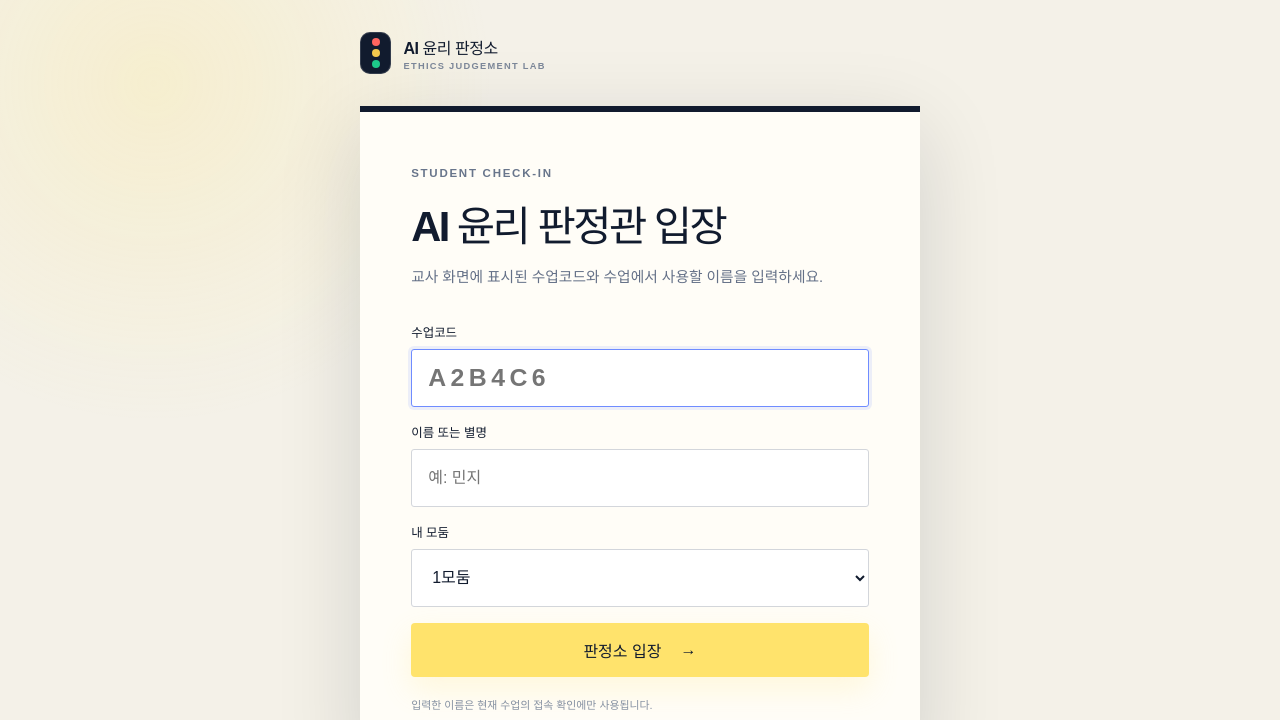
Scenario: application routes › validates a short classroom code on the student join route
In the field labelled "수업코드": (640, 378) [411,349,869,407], type "123"
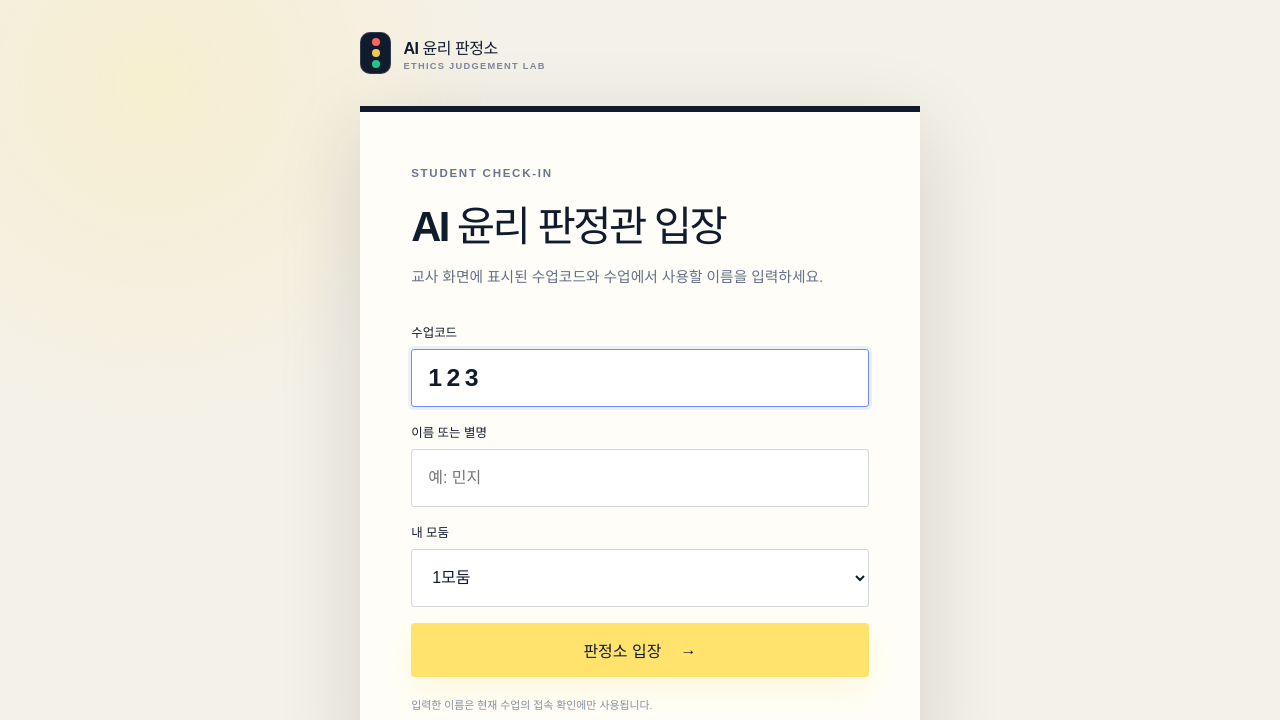
In the field labelled "이름 또는 별명": (640, 478) [411,449,869,507], type "민지"
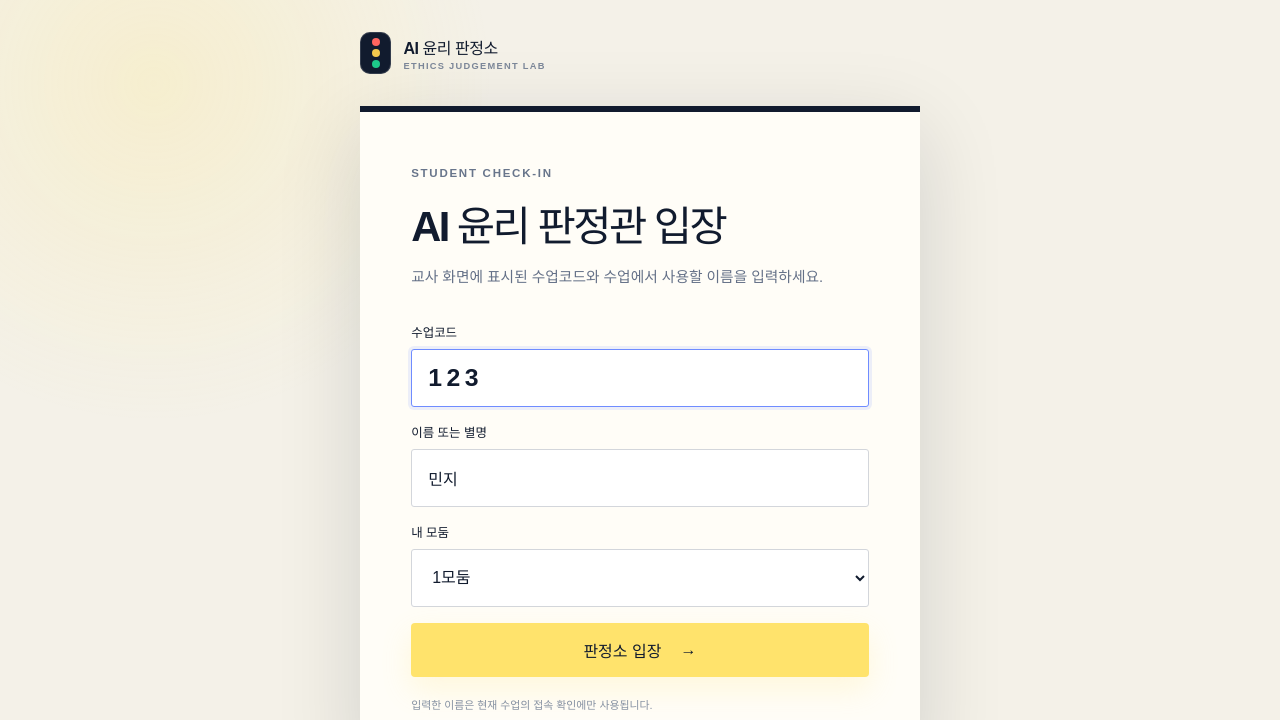
Click the button "판정소 입장 →": click(640, 650) [411,623,869,677]
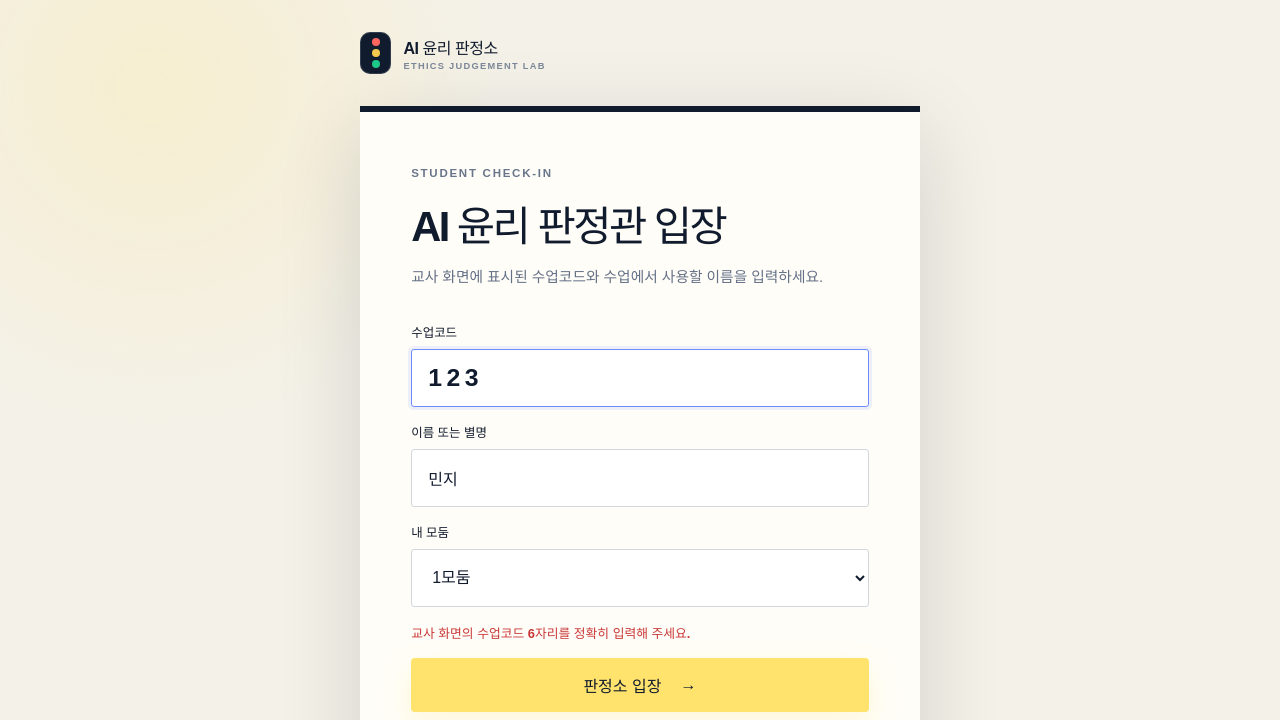
Expected: the message shows "수업코드 6자리", [411,626,690,641]
